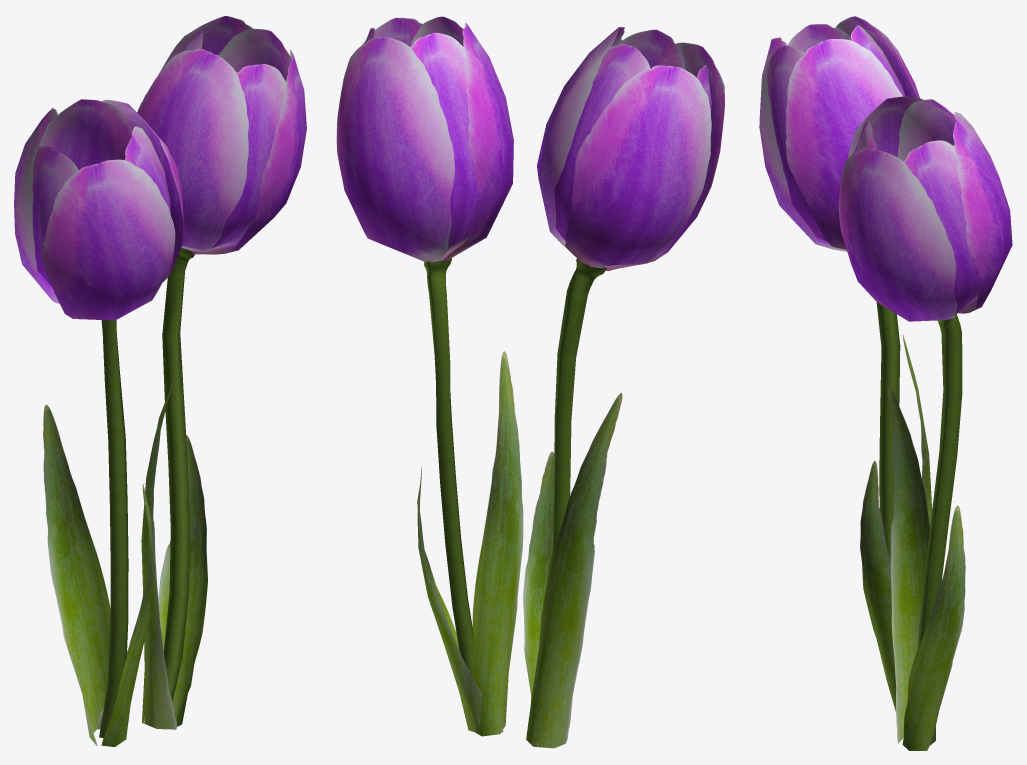
Rendered from tulip.glb.
3 views of the same model, side by side, from view 1: azimuth 30°, elevation 25°; view 2: azimuth 150°, elevation 25°; view 3: azimuth 270°, elevation 25° (orthographic). The views are drawn at different scales.
Visible parts, largest first — view 1: Cylinder.002_tulip_transparent_1_0, Cylinder.002_tulip_opague_1_0; view 2: Cylinder.002_tulip_transparent_1_0, Cylinder.002_tulip_opague_1_0; view 3: Cylinder.002_tulip_transparent_1_0, Cylinder.002_tulip_opague_1_0.
Boxes of the visible parts, x1,y1,x2,y2 form: Cylinder.002_tulip_transparent_1_0: (14,16,306,746); Cylinder.002_tulip_opague_1_0: (99,248,195,737); Cylinder.002_tulip_transparent_1_0: (336,16,724,748); Cylinder.002_tulip_opague_1_0: (424,258,606,676); Cylinder.002_tulip_transparent_1_0: (759,16,1012,750); Cylinder.002_tulip_opague_1_0: (876,302,962,648).
Bounding box in the file's own units: 10.63 × 21.36 × 7.43.
2 materials, 2 textured.
